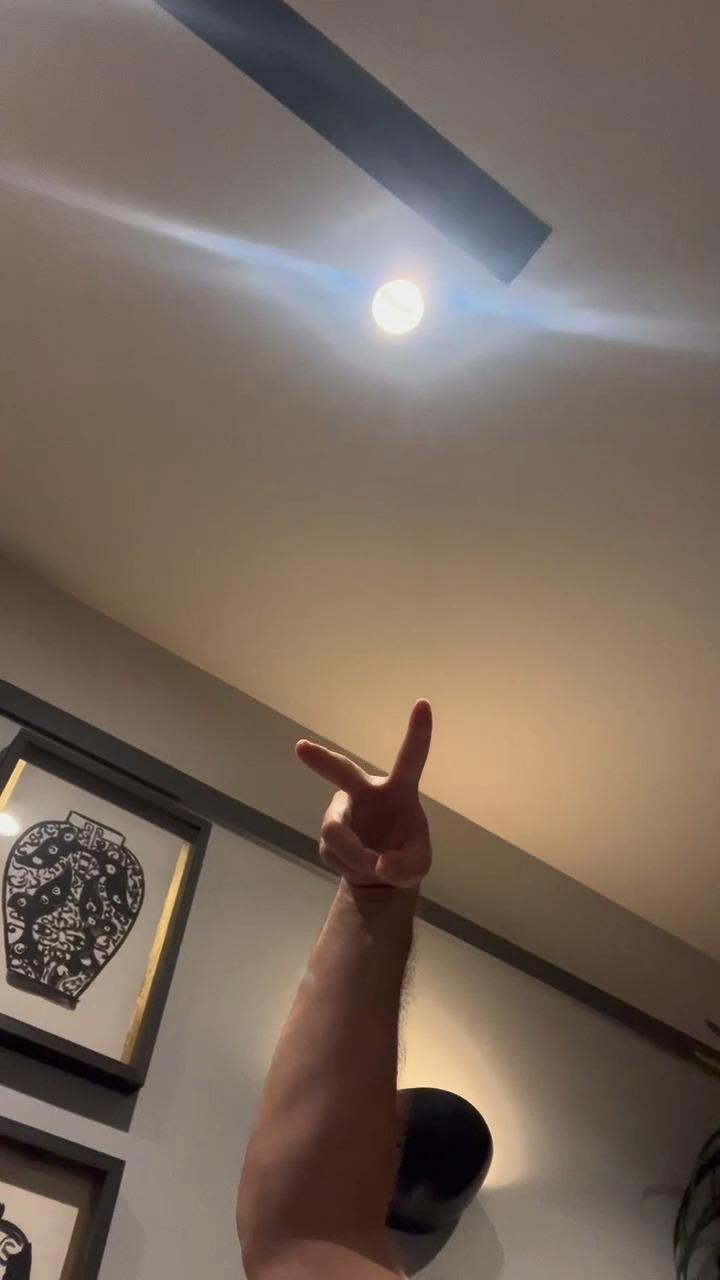Scissors: (293, 696, 433, 890)
